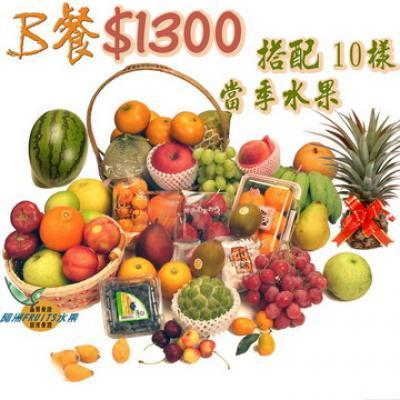apple: (144, 141, 198, 190), (82, 216, 120, 254), (9, 200, 40, 233), (3, 230, 36, 259)
